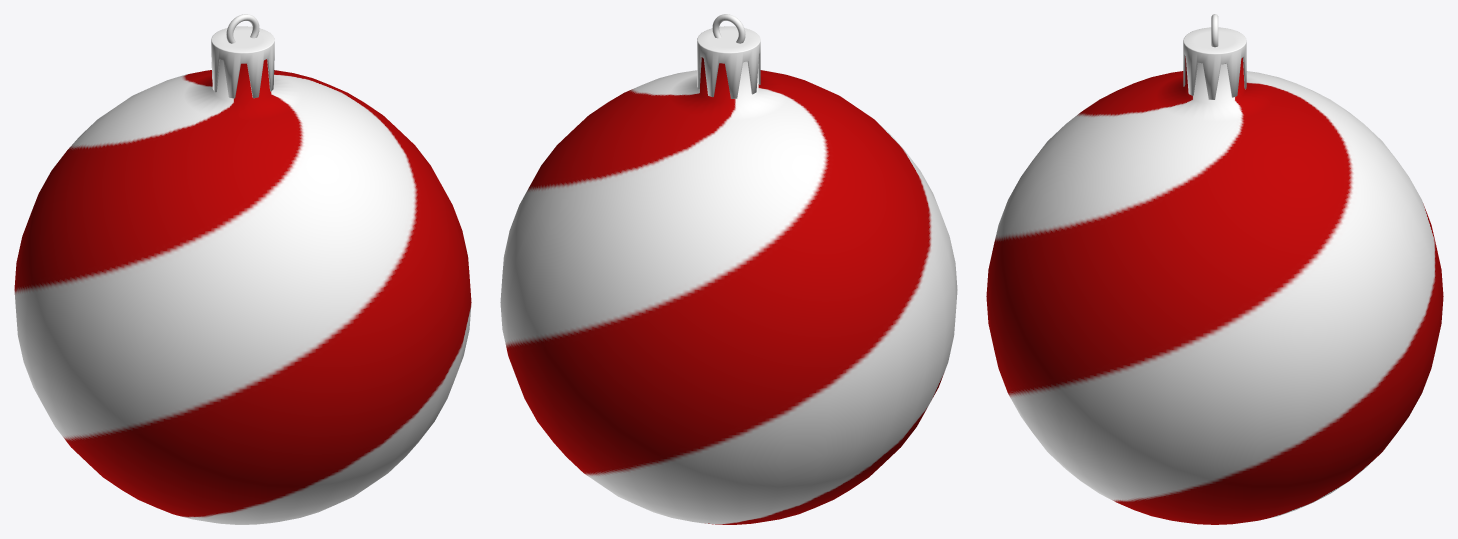
The model's file is red_silver_ball2.glb.
3 renders of one model, left to right at view 1: azimuth 30°, elevation 25°; view 2: azimuth 150°, elevation 25°; view 3: azimuth 270°, elevation 25°, orthographic.
Parts seen in each view (by area): view 1: Object_6; view 2: Object_6; view 3: Object_6.
Part boxes in pixels (x1,y1,x2,y2): Object_6: (14, 14, 471, 524); Object_6: (500, 14, 957, 524); Object_6: (986, 14, 1443, 524).
Size of the model in its own units: 0.0704 by 0.083 by 0.0704.
2 materials, 1 textured.
